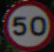Speed limit: (5, 1, 50, 46)
